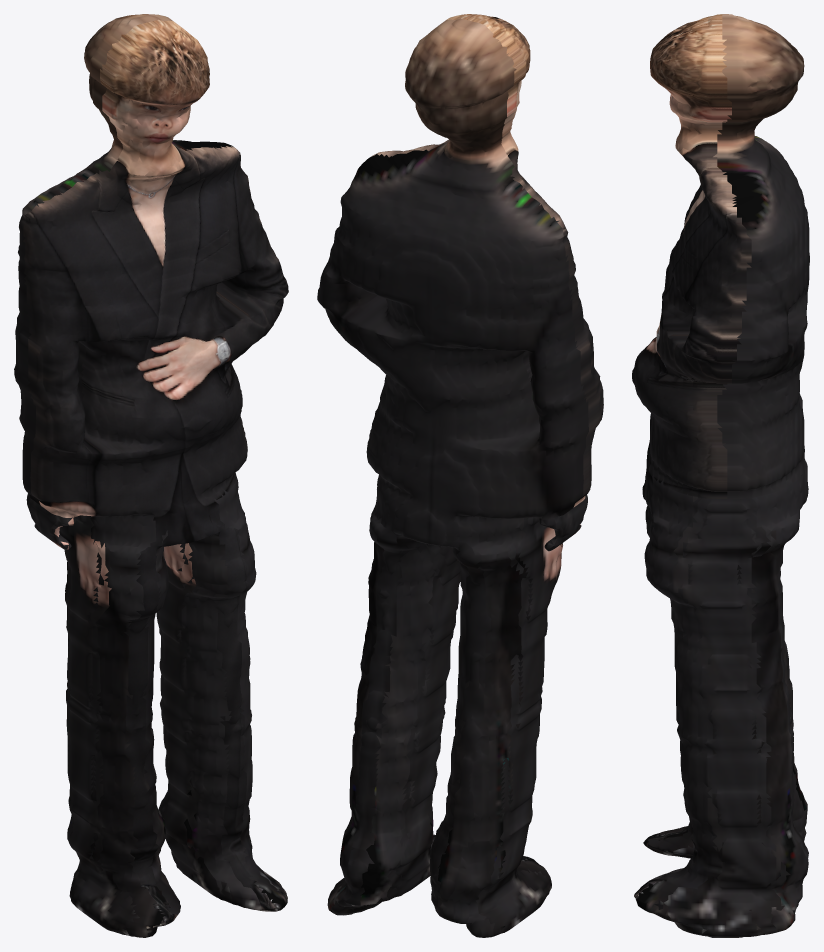
The model's file is maolongrui-model.glb.
3 renders of one model, left to right at view 1: azimuth 30°, elevation 25°; view 2: azimuth 150°, elevation 25°; view 3: azimuth 270°, elevation 25°, orthographic. The views are drawn at different scales.
Visible parts, largest first — view 1: Mao Longrui — reconstructed full body; view 2: Mao Longrui — reconstructed full body; view 3: Mao Longrui — reconstructed full body.
Part boxes in pixels (x1,y1,x2,y2): Mao Longrui — reconstructed full body: [14, 14, 288, 937]; Mao Longrui — reconstructed full body: [317, 14, 603, 937]; Mao Longrui — reconstructed full body: [632, 14, 809, 937].
Size of the model in its own units: 0.5227 by 1.79 by 0.3342.
2 materials, 2 textured.
